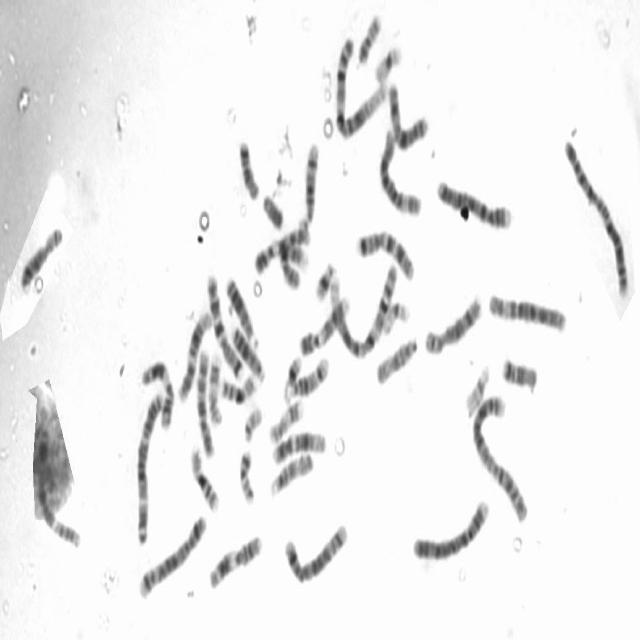A1: (326, 252, 400, 360), (332, 27, 390, 139)
A2: (560, 128, 632, 300), (469, 384, 531, 525)
A3: (33, 423, 83, 549), (132, 380, 166, 546)
B4: (409, 488, 492, 564), (434, 168, 515, 232)
B5: (136, 506, 209, 602), (282, 514, 351, 585)
C10: (193, 340, 217, 460), (277, 213, 312, 292)
C11: (206, 525, 265, 591), (138, 350, 178, 430)
C12: (176, 301, 214, 404), (268, 422, 328, 465)
C6: (376, 119, 424, 217), (485, 282, 570, 334)
C7: (204, 263, 246, 381), (353, 220, 417, 282)
C8: (421, 285, 485, 356), (18, 217, 66, 293)
C9: (296, 286, 354, 358), (252, 222, 312, 275)
D13: (222, 267, 261, 348), (229, 316, 268, 384)
D14: (284, 347, 332, 401), (300, 132, 322, 226)
D15: (373, 326, 421, 387), (267, 444, 316, 498)
E16: (188, 438, 222, 514), (217, 365, 259, 405)
E17: (266, 388, 306, 446), (206, 344, 225, 427)
E18: (499, 347, 540, 394), (235, 130, 262, 201)
F19: (372, 35, 405, 85), (380, 292, 413, 337)
F20: (355, 2, 384, 66), (236, 440, 258, 505)
G21: (280, 345, 304, 405), (312, 252, 339, 303)
G22: (462, 355, 493, 418), (240, 397, 265, 442)
X: (386, 72, 432, 152)
Y: (260, 184, 286, 230)
